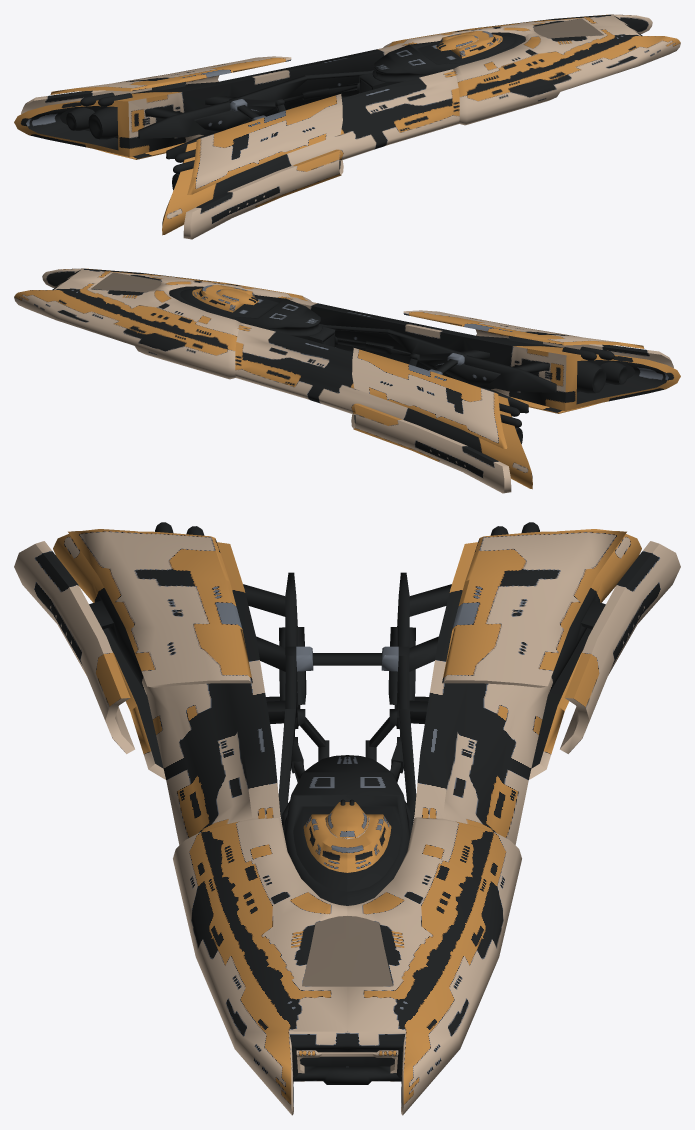
Rendered from arbitrator.glb.
3 renders of one model, top to bottom at view 1: azimuth 30°, elevation 25°; view 2: azimuth 150°, elevation 25°; view 3: azimuth 270°, elevation 25°, orthographic. The views are drawn at different scales.
Visible parts, largest first — view 1: Arbitrator; view 2: Arbitrator; view 3: Arbitrator.
Boxes of the visible parts, box(x1,y1,x2,y2) form: Arbitrator: box(14, 14, 680, 239); Arbitrator: box(14, 268, 680, 493); Arbitrator: box(14, 522, 680, 1115).
Size of the model in its own units: 326 by 39.02 by 164.
1 material, 1 textured.
